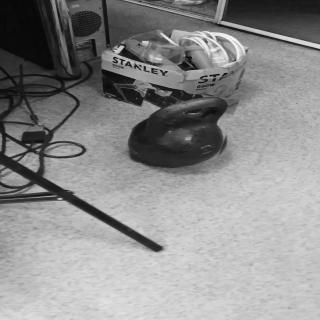kettlebell: (128, 92, 235, 171)
